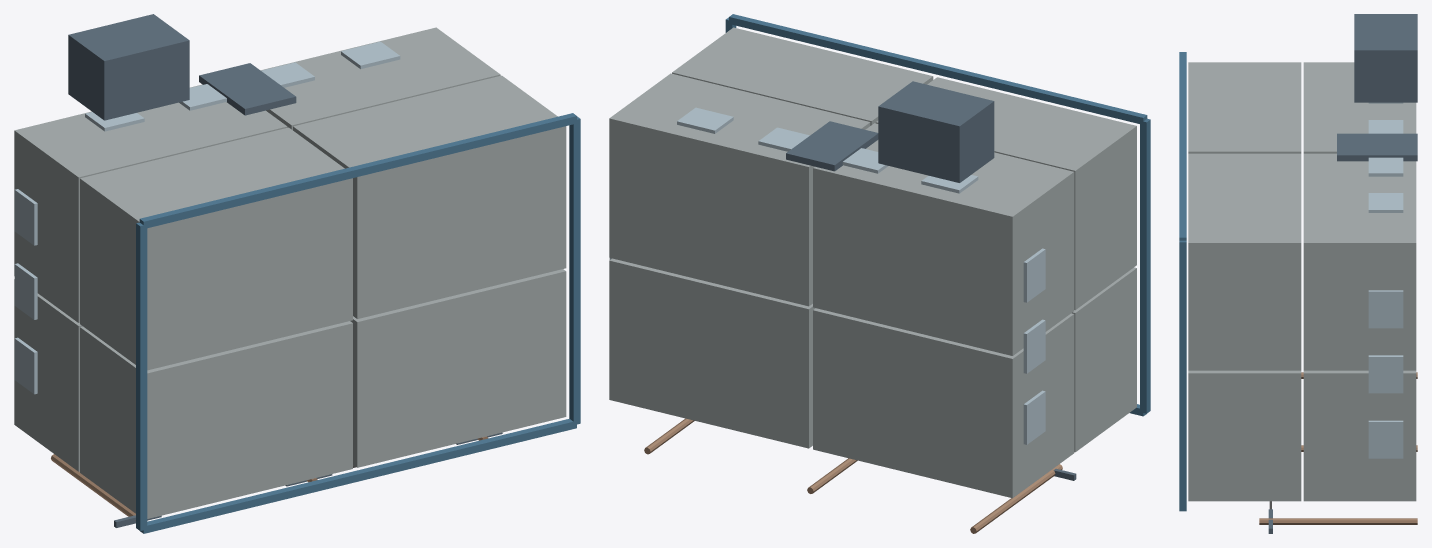
The model's file is building-utility-company.glb.
3 views of the same model, side by side, from view 1: azimuth 30°, elevation 25°; view 2: azimuth 150°, elevation 25°; view 3: azimuth 270°, elevation 25° (orthographic). The views are drawn at different scales.
Visible parts, largest first — view 1: world; view 2: world; view 3: world.
Boxes of the visible parts, left/top/right/bottom form: world: left=14, top=14, right=580, bottom=533; world: left=609, top=14, right=1150, bottom=533; world: left=1179, top=14, right=1417, bottom=533.
Bounding box in the file's own units: 15.5 × 14.22 × 8.27.
